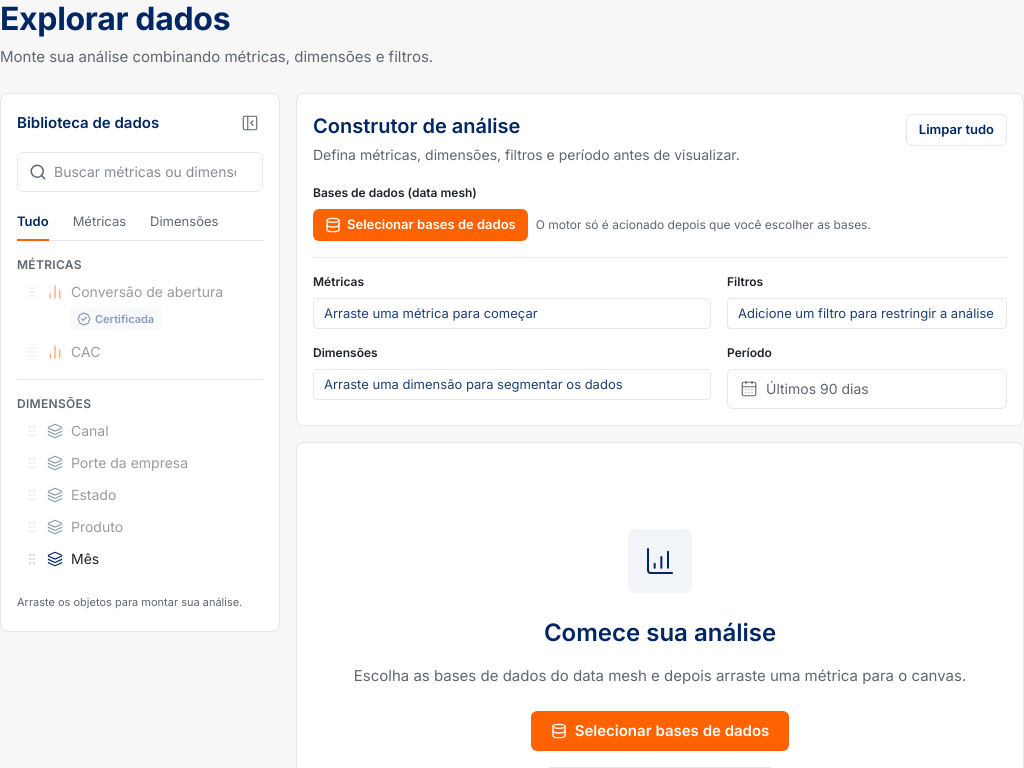
Test: ExplorerPage › adds a metric and a dimension by click and renders governed results with insights
Expected: the button "Conversão de abertura Certificada" is disabled, [17,277,263,335]
Click the button "Selecionar bases de dados" below "Bases de dados (data mesh)" at [420, 225], box [313,209,528,241]
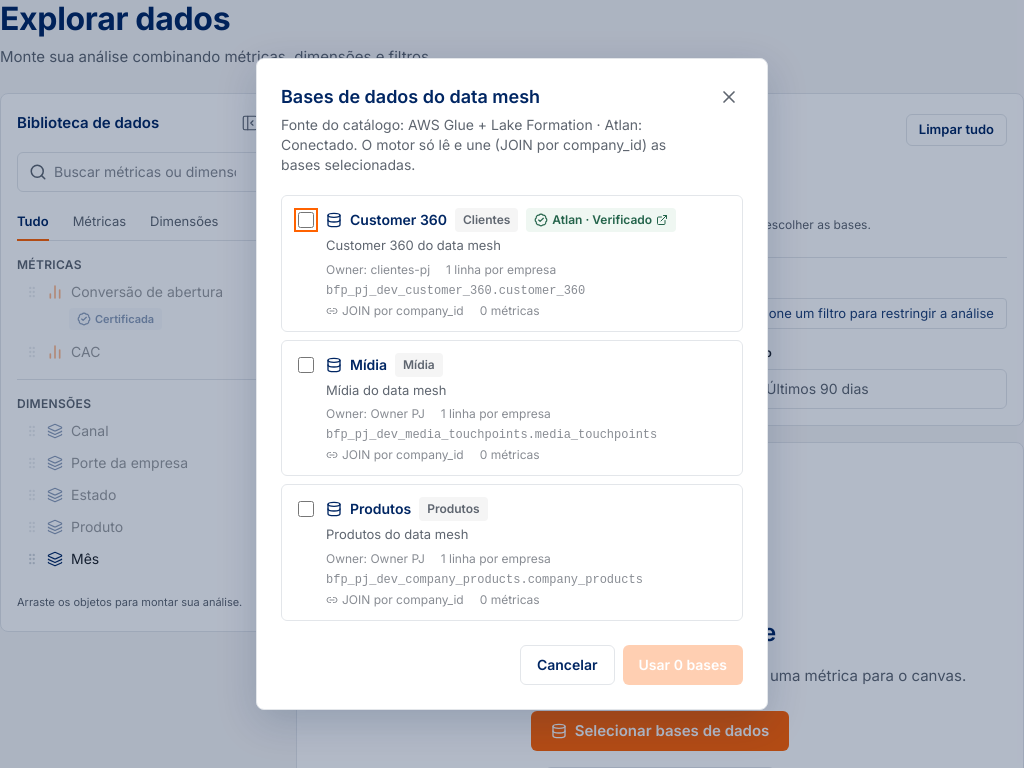
Expected: the link "Atlan · Verificado" is shown, [526,208,676,232]
Click the checkbox labelled "Customer 360" at [306, 220], box [298,212,314,228]
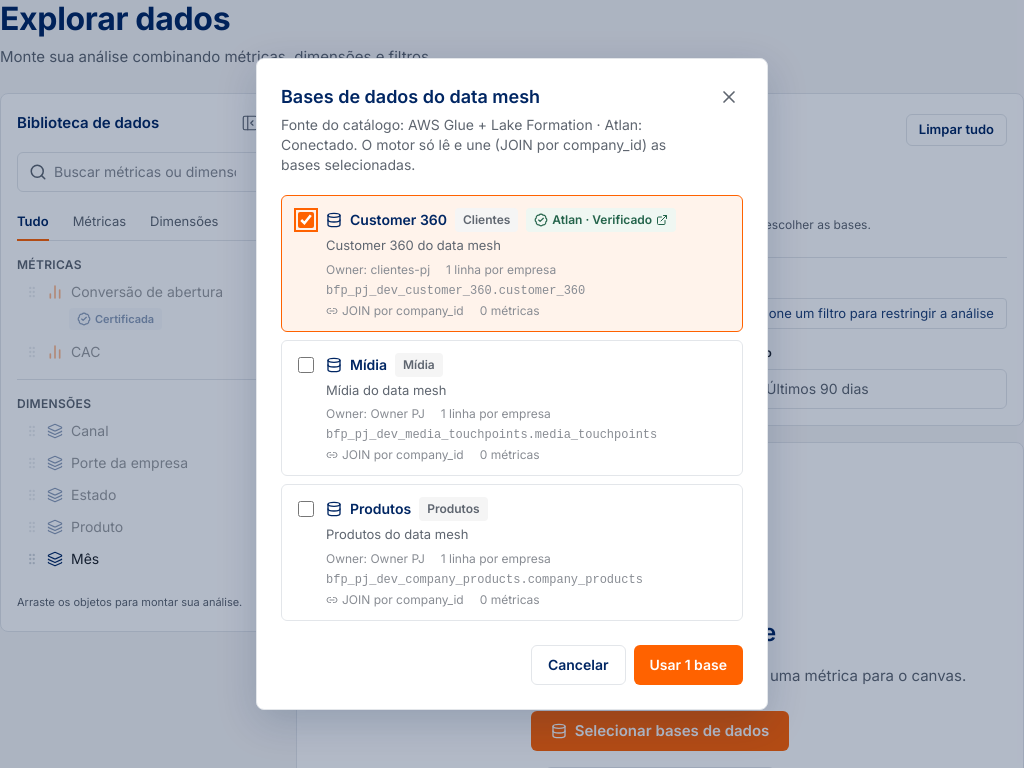
Click the button "Usar 1 base" at [688, 665], box [634,645,743,685]
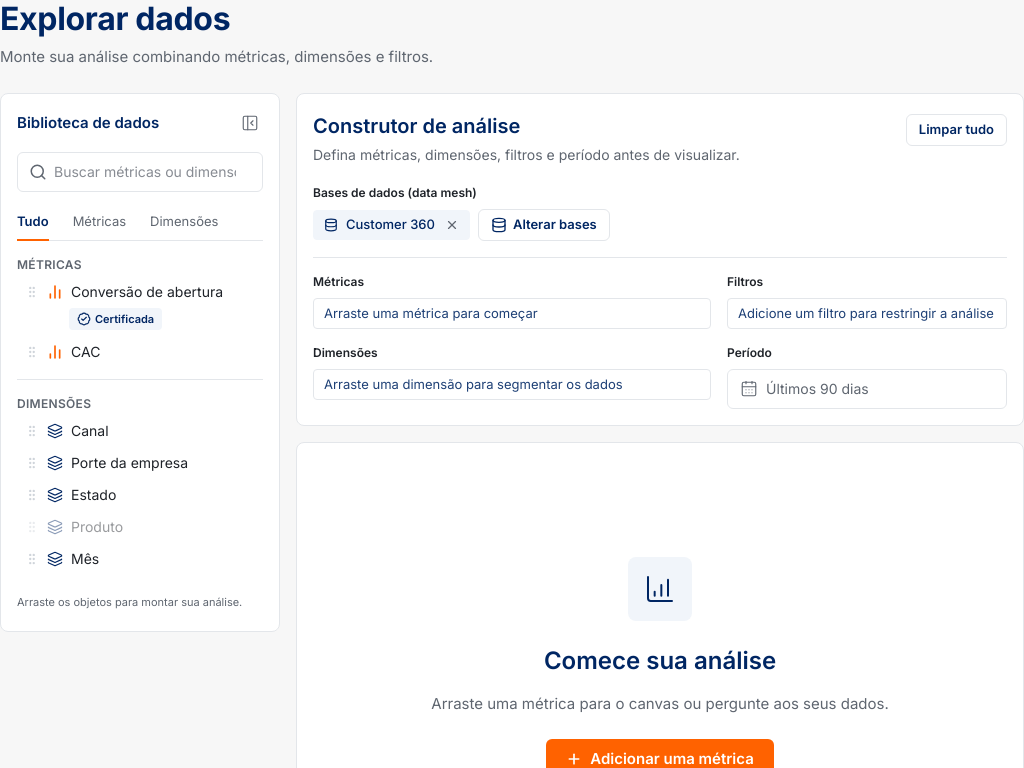
Click the text "Conversão de abertura" at [147, 292], box [71,282,223,302]
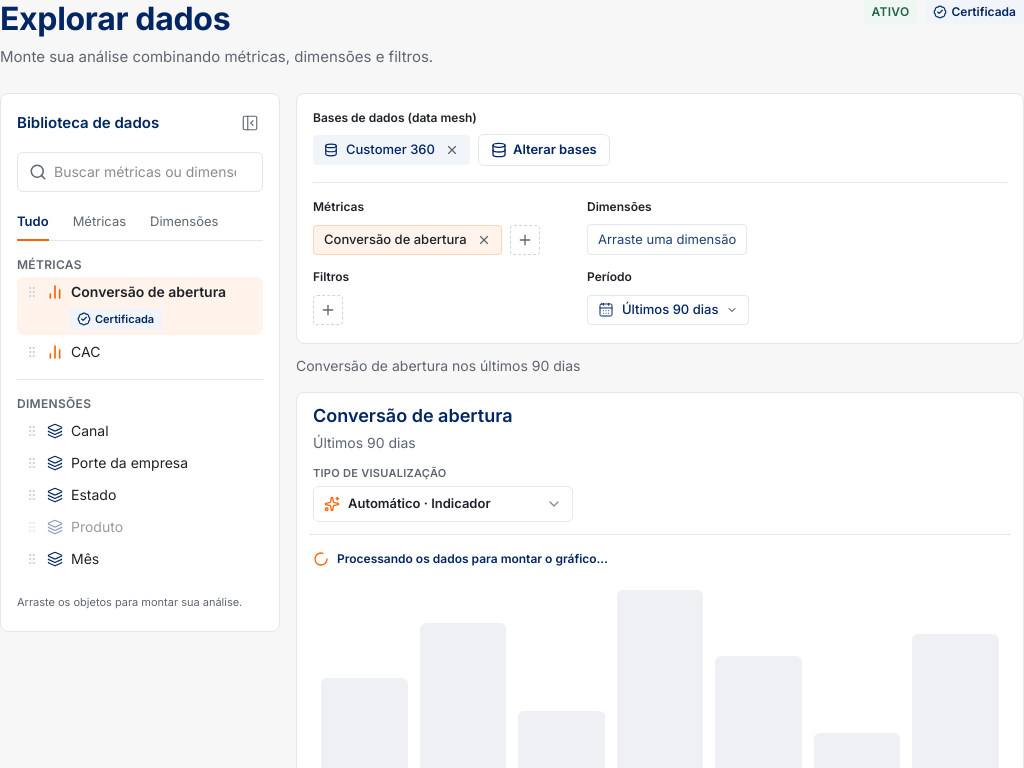
Click the button "Canal" at [140, 431], box [17,416,263,446]
(page scrolled)
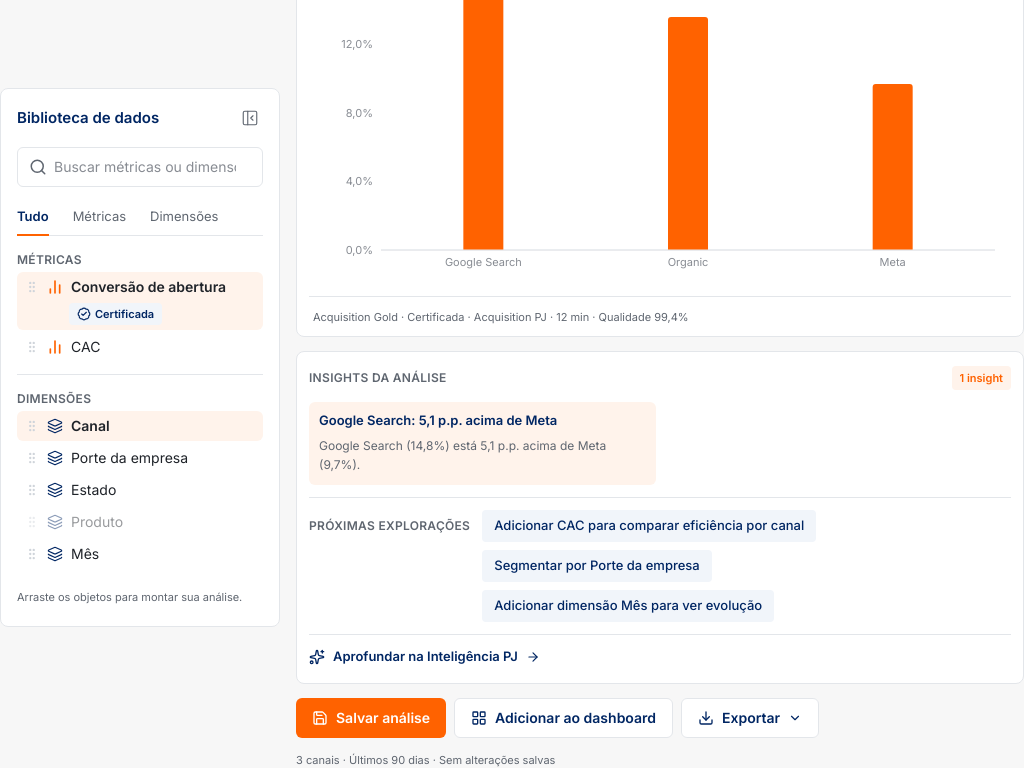
Expected: the button "Salvar análise" is enabled, [296,698,446,738]
Expected: the text "Google Search: 5,1 p.p. acima de Meta" is shown, [319,412,557,428]
Expected: the button "Exportar" is enabled, [681,698,819,738]
